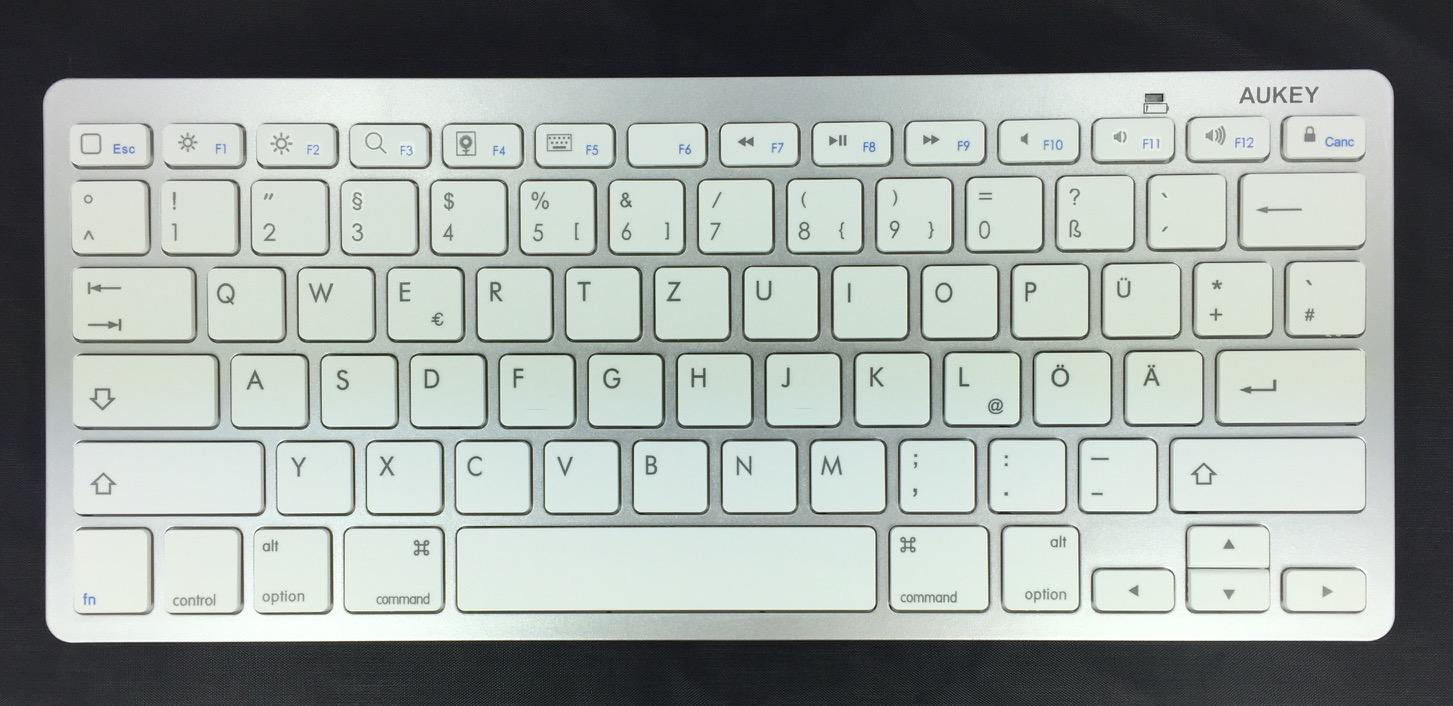0: (962, 171, 1044, 251)
1: (159, 174, 238, 253)
2: (248, 175, 328, 253)
3: (337, 175, 417, 253)
4: (428, 174, 507, 252)
5: (515, 174, 596, 253)
6: (606, 175, 684, 252)
7: (695, 174, 774, 251)
8: (783, 173, 863, 252)
9: (873, 172, 954, 251)
a: (227, 349, 308, 426)
accent: (1144, 168, 1227, 247)
ae: (1121, 344, 1204, 424)
alt-left: (248, 522, 333, 613)
altgr-right: (998, 519, 1083, 612)
b: (627, 435, 709, 513)
c: (450, 435, 531, 513)
caret: (67, 174, 147, 253)
comma: (894, 433, 976, 511)
d: (405, 349, 486, 427)
del: (1237, 166, 1366, 247)
e: (383, 261, 464, 340)
enter: (1212, 343, 1367, 424)
f: (496, 349, 574, 426)
g: (584, 349, 662, 425)
h: (672, 349, 752, 426)
hash: (1284, 256, 1368, 335)
i: (829, 259, 908, 338)
j: (762, 348, 840, 425)
k: (850, 346, 931, 425)
keyboard: (33, 63, 1404, 652)
l: (941, 347, 1020, 425)
m: (806, 433, 886, 511)
minus: (1073, 434, 1158, 511)
n: (717, 435, 797, 512)
o: (917, 259, 997, 338)
oe: (1029, 346, 1111, 425)
p: (1008, 258, 1088, 337)
plus: (1190, 256, 1273, 335)
point: (985, 433, 1067, 511)
q: (202, 261, 285, 340)
r: (473, 262, 552, 339)
s: (316, 349, 397, 427)
shift-left: (72, 434, 268, 514)
shift-lock: (69, 348, 216, 427)
shift-right: (1167, 430, 1369, 512)
space: (452, 518, 877, 613)
ss: (1052, 169, 1134, 249)
strg-left: (156, 522, 243, 614)
t: (562, 261, 641, 339)
tab: (68, 260, 193, 339)
u: (739, 261, 818, 339)
ue: (1097, 257, 1180, 337)
v: (540, 435, 619, 512)
w: (293, 261, 373, 340)
x: (362, 436, 443, 513)
y: (272, 436, 355, 512)
z: (650, 261, 730, 340)
